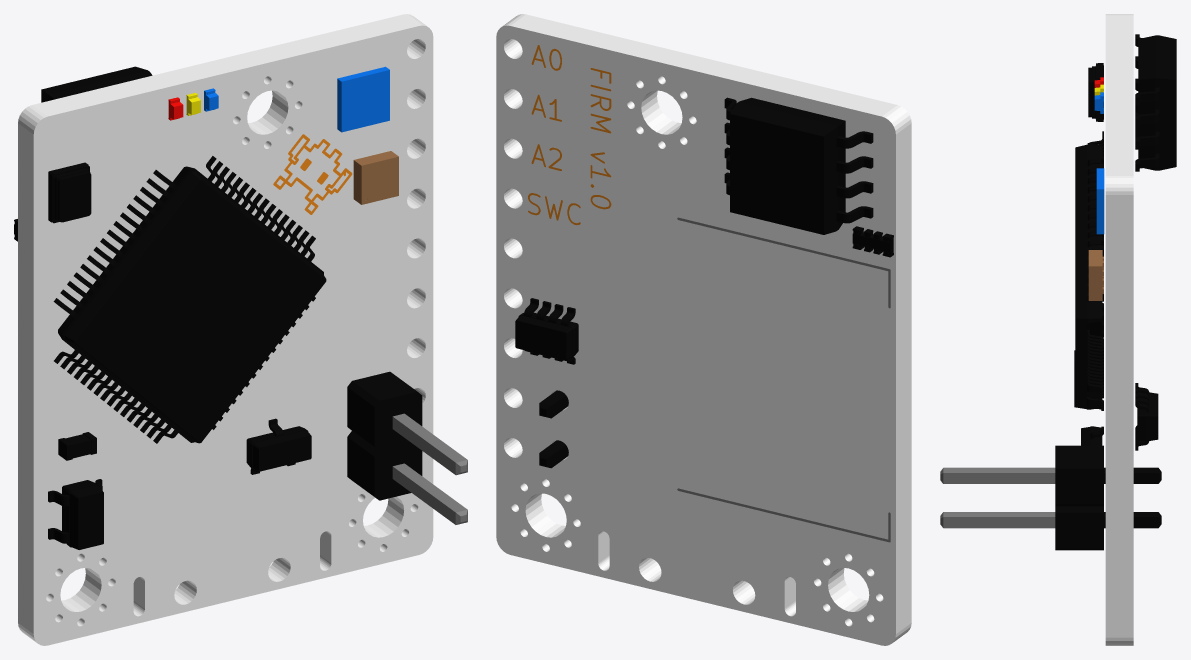
Rendered from firm_model.glb.
3 renders of one model, left to right at view 1: azimuth 30°, elevation 25°; view 2: azimuth 150°, elevation 25°; view 3: azimuth 270°, elevation 25°, orthographic. The views are drawn at different scales.
Visible parts, largest first — view 1: FIRM; view 2: FIRM; view 3: FIRM.
Boxes of the visible parts, x1=… form: FIRM: x1=14, y1=14, x2=467, y2=645; FIRM: x1=496, y1=14, x2=911, y2=645; FIRM: x1=940, y1=14, x2=1176, y2=645.
Bounding box in the file's own units: 21.31 × 26.95 × 12.33.
Materials: 1 (1 with a texture image).
